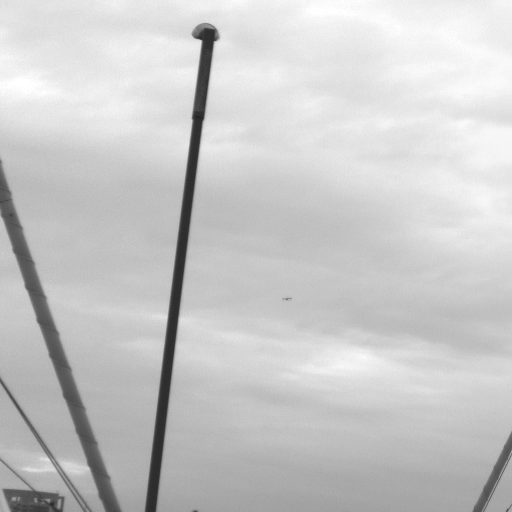uav: (281, 297, 291, 301)
